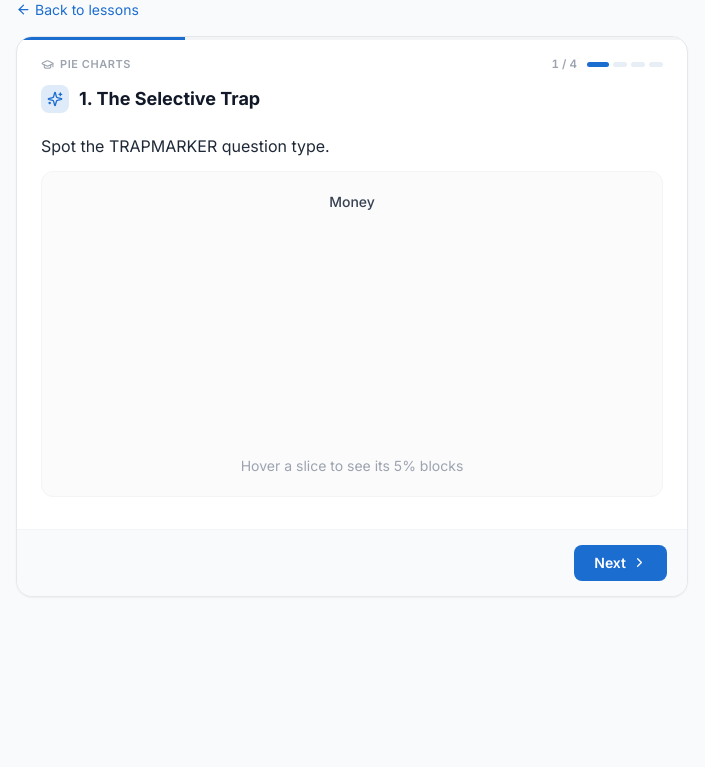
Test: segmented lesson player › gates completion — Mark complete is disabled until the quiz is answered correctly
Expected: the text "Spot the TRAPMARKER question type." is shown, [41,136,330,156]
Click the button "Next". click: (621, 563)
box: [574,545,667,581]
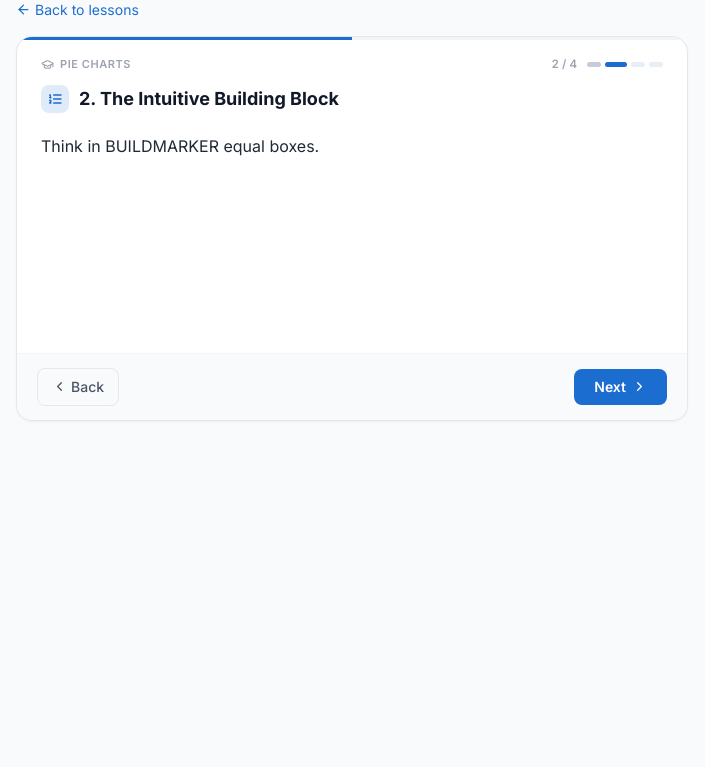
Click the button "Next". click: (621, 387)
box: [574,369,667,405]
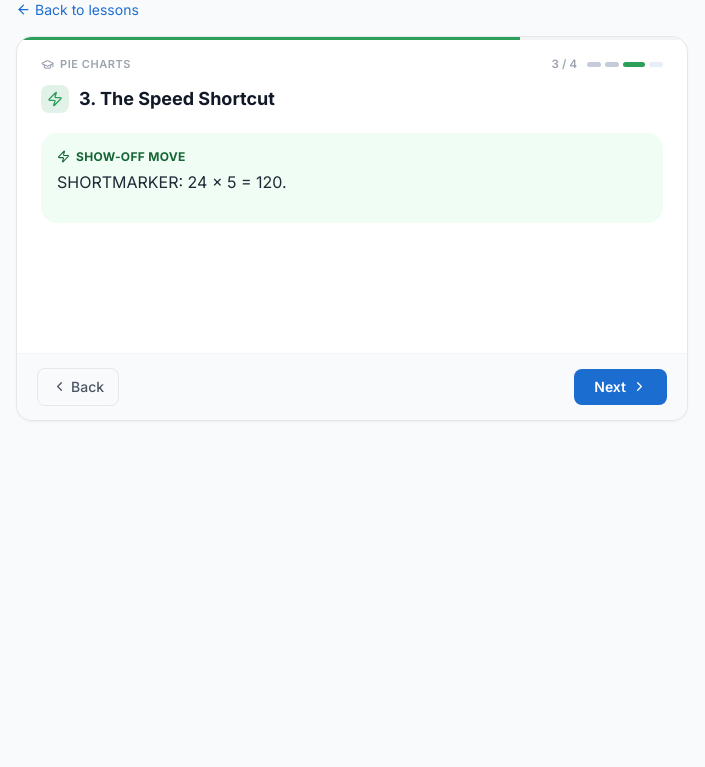
Click the button "Next". click: (621, 387)
box: [574,369,667,405]
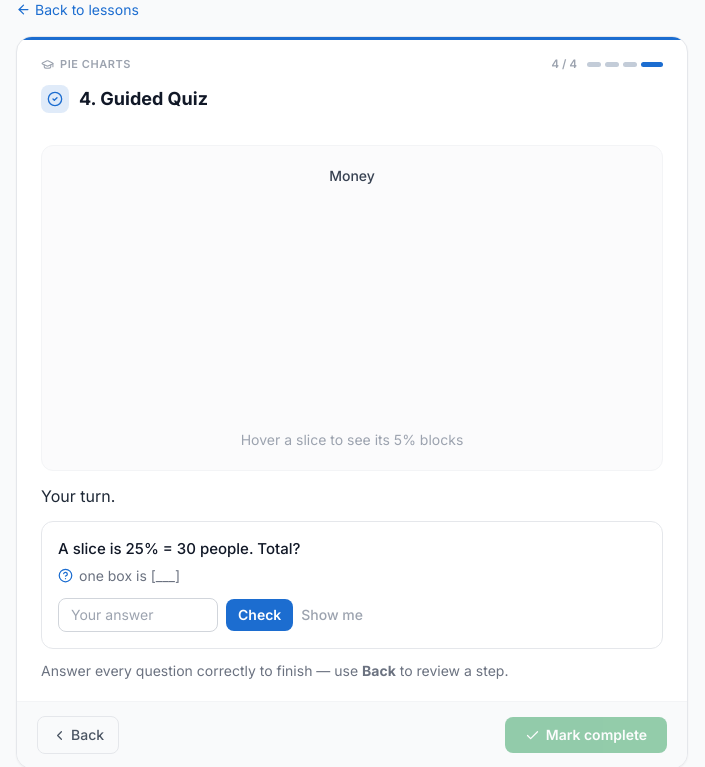
Expected: the button "Mark complete" is disabled, [505,717,667,753]
Type "120" into the field labelled "Your answer". click: (138, 615)
box: [58,598,218,632]
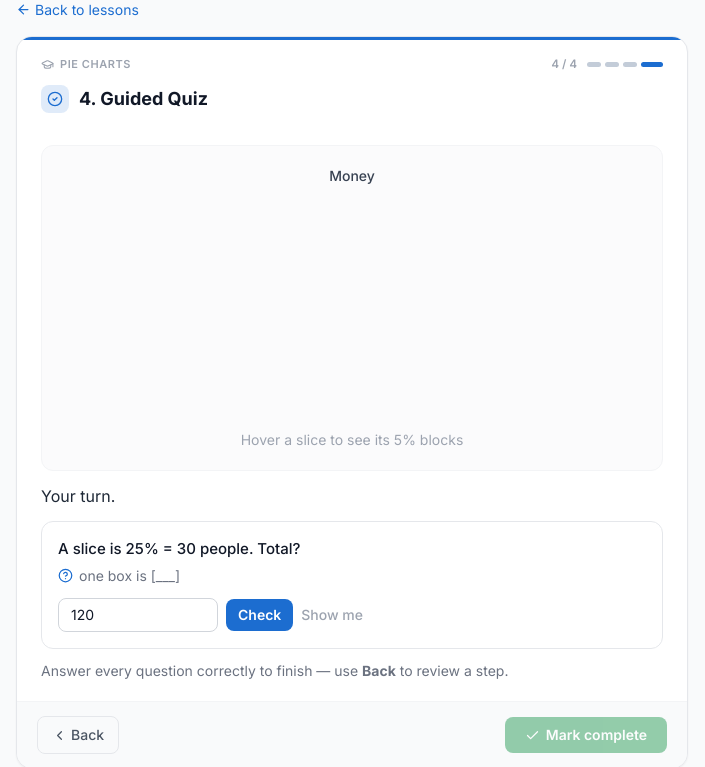
Click the button "Check". click: (260, 615)
box: [226,599,293,631]
(page scrolled)
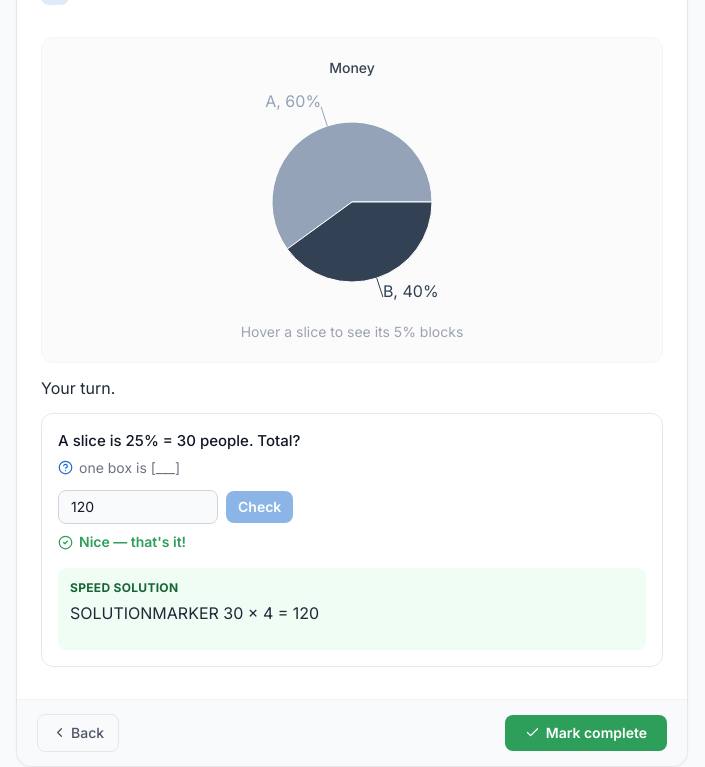
Expected: the button "Mark complete" is enabled, [505,715,667,751]
